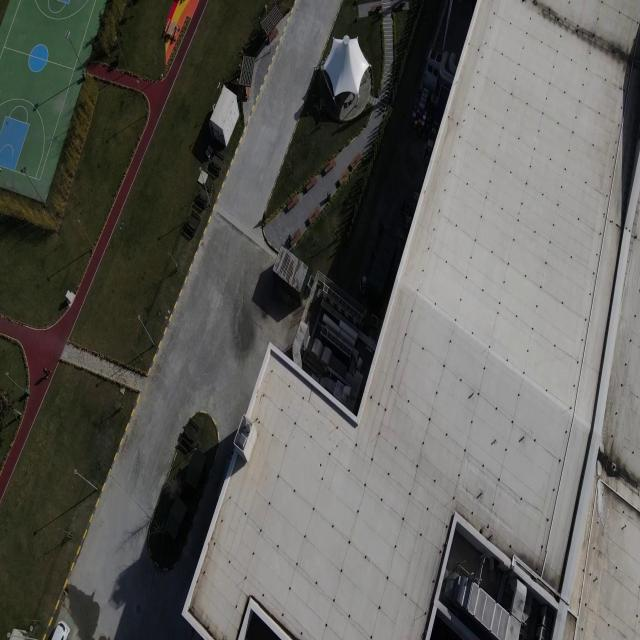p3rson: (43, 368, 52, 380)
